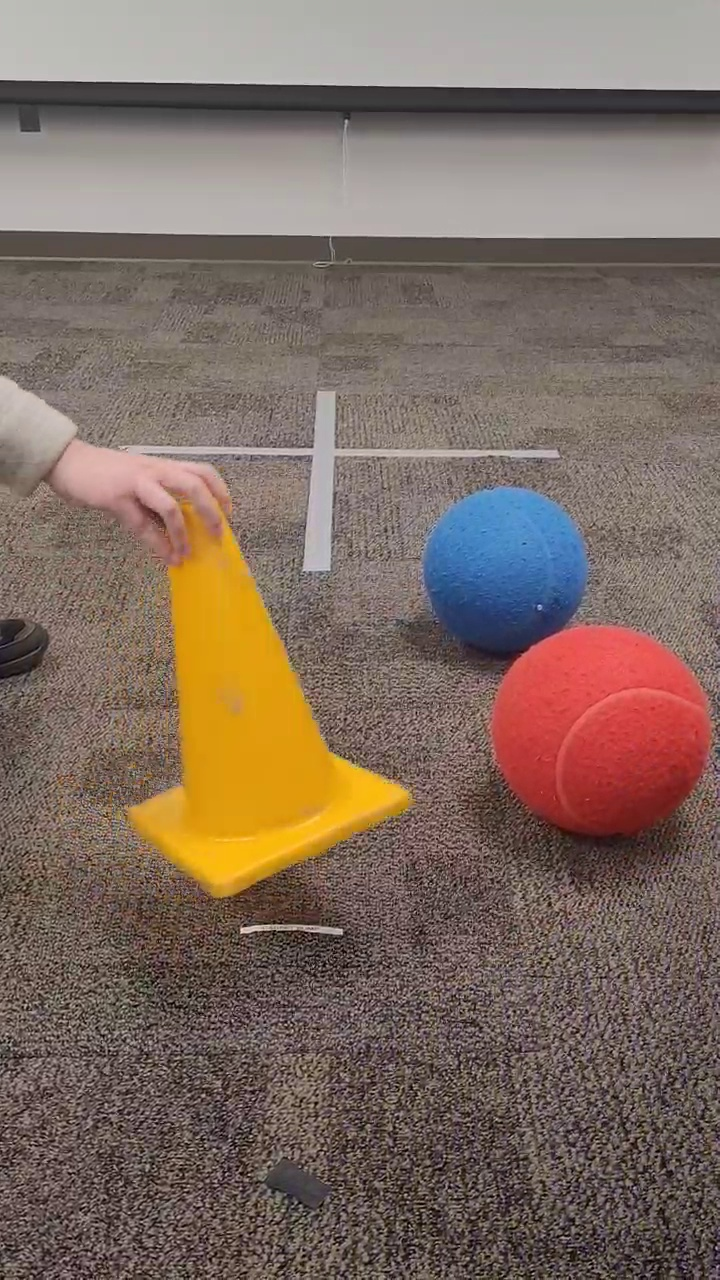ball: (487, 621, 713, 842), (423, 482, 591, 658)
cone: (121, 486, 415, 902)
foot: (1, 609, 55, 688)
hand: (1, 367, 238, 570)
